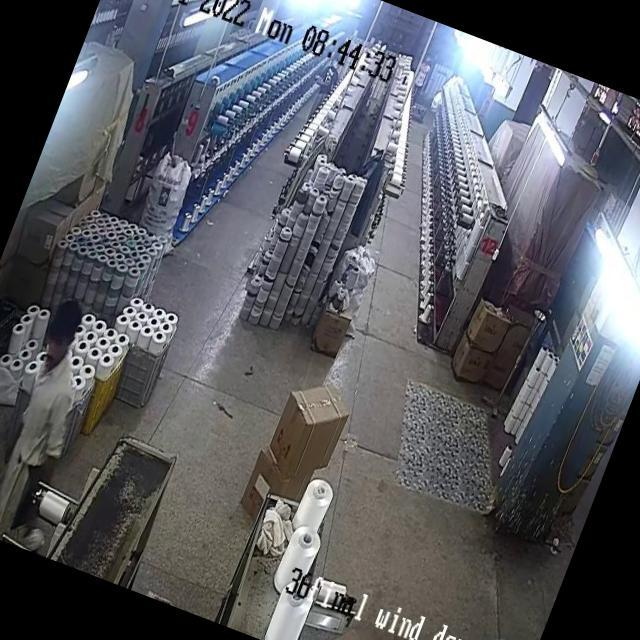person: (0, 299, 113, 512), (312, 52, 346, 105), (409, 54, 436, 102)
